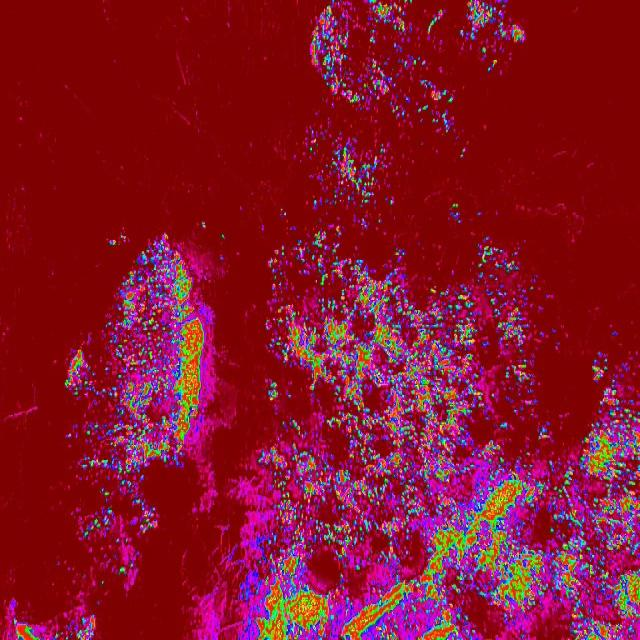fire: (246, 234, 550, 640), (121, 224, 213, 462), (586, 349, 640, 640), (301, 0, 526, 68), (68, 335, 121, 587), (322, 68, 466, 133), (302, 126, 399, 218), (550, 429, 586, 640), (5, 596, 96, 640), (120, 461, 160, 545)
